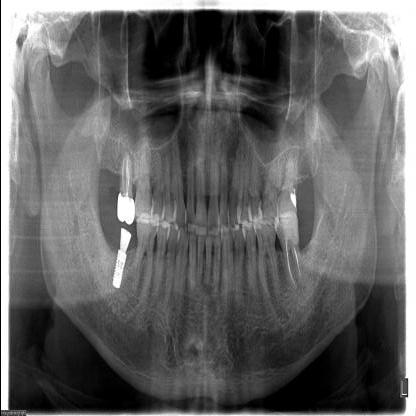ITI: (110, 245, 129, 291)
